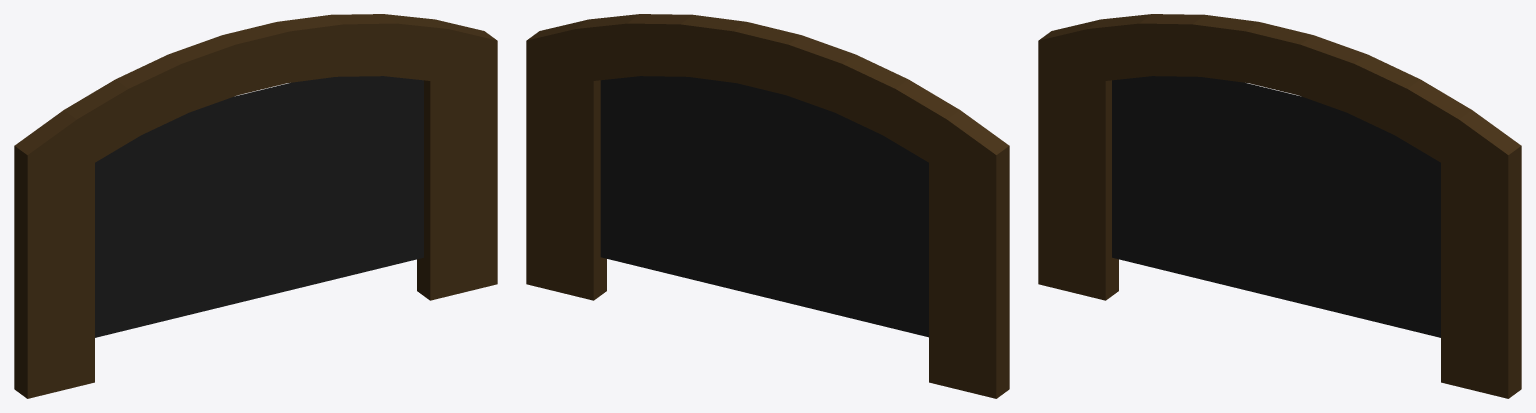
File: panneau_affiche.glb
3 views of the same model, side by side, from view 1: azimuth 30°, elevation 25°; view 2: azimuth 150°, elevation 25°; view 3: azimuth 330°, elevation 25° (orthographic).
Visible parts, largest first — view 1: Cube; view 2: Cube; view 3: Cube.
Boxes of the visible parts, box(x1,y1,x2,y2) form: Cube: box(14, 14, 497, 398); Cube: box(526, 14, 1009, 398); Cube: box(1038, 14, 1521, 398).
Bounding box in the file's own units: 2.02 × 1.25 × 0.0973.
Materials: 1 (1 with a texture image).
